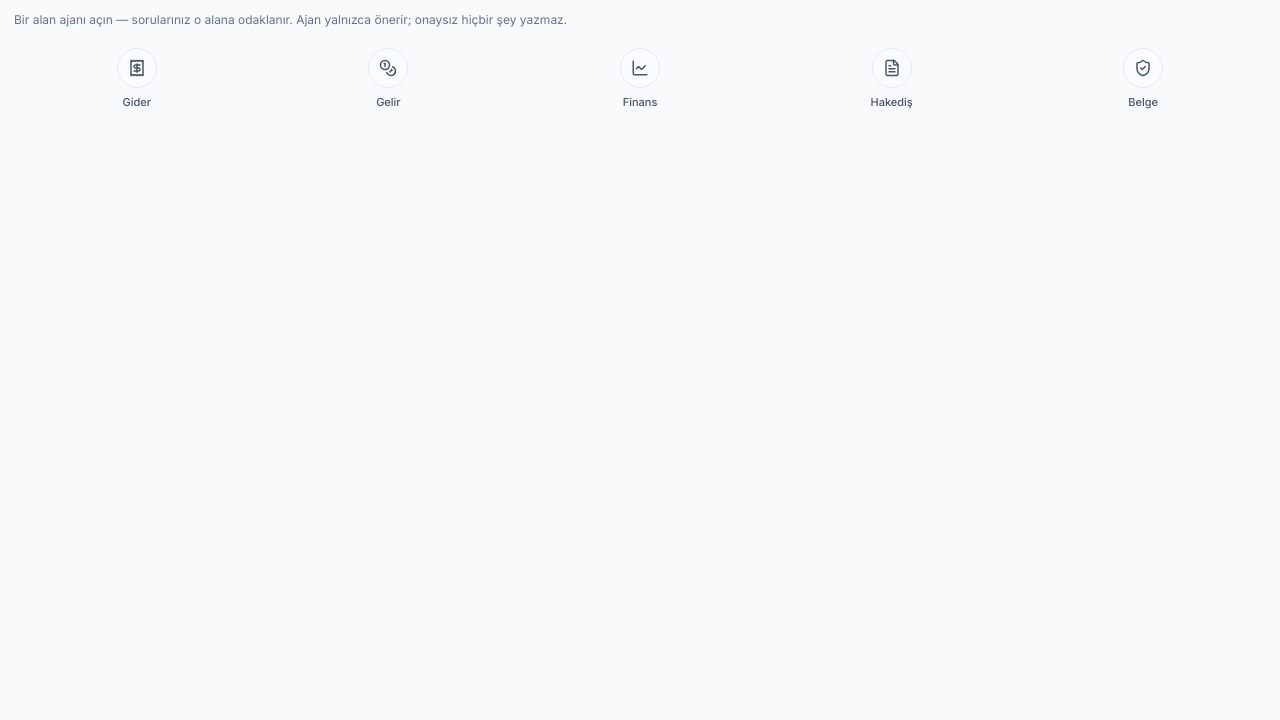
Test: ScopedAgentDock (CR-011-D / Item 1) › opens an empty composer scoped to the domain WITHOUT auto-asking
Click the button with aria-label "Gider Agent" at (137, 79), box [14,40,260,118]
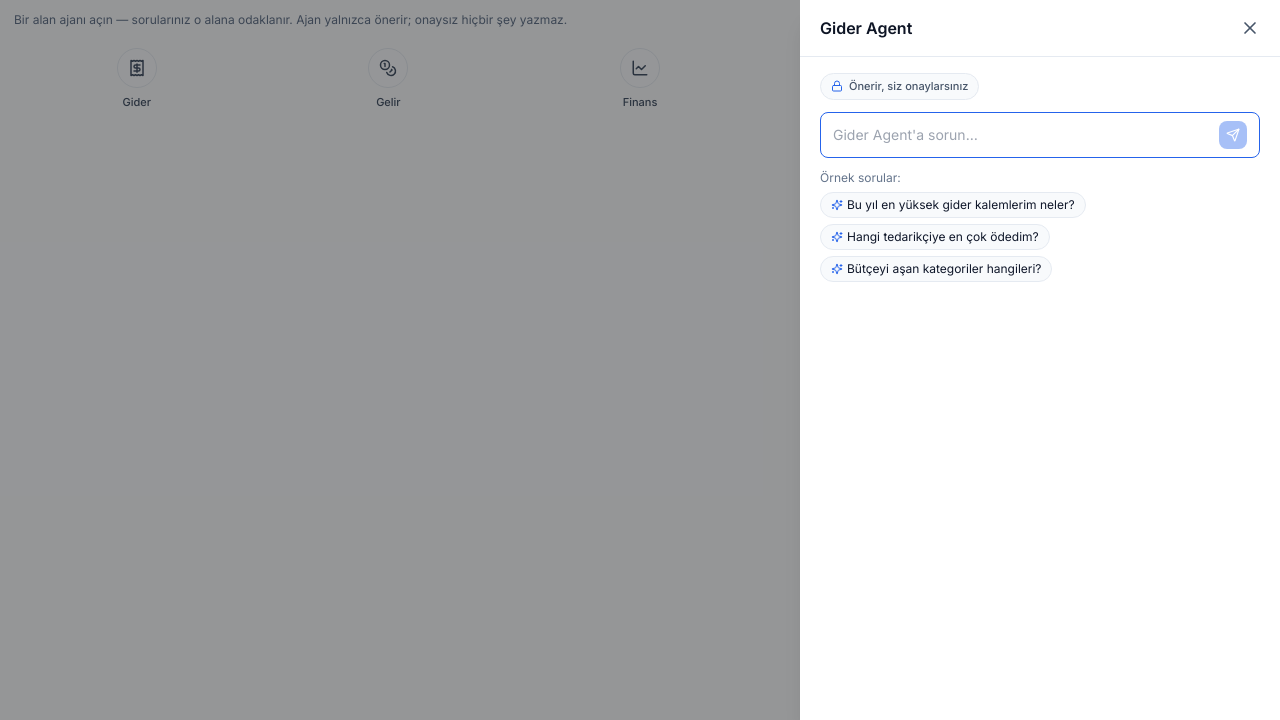
Now the field with placeholder "Gider Agent'a sorun…" is shown, box [833,118,1211,150]
Now the text "Örnek sorular:" is shown, box [820,170,901,184]
